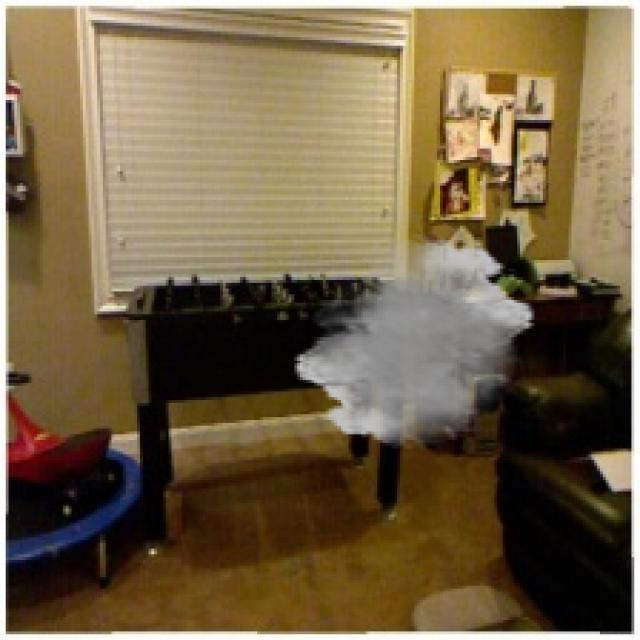smoke: (292, 234, 537, 449)
